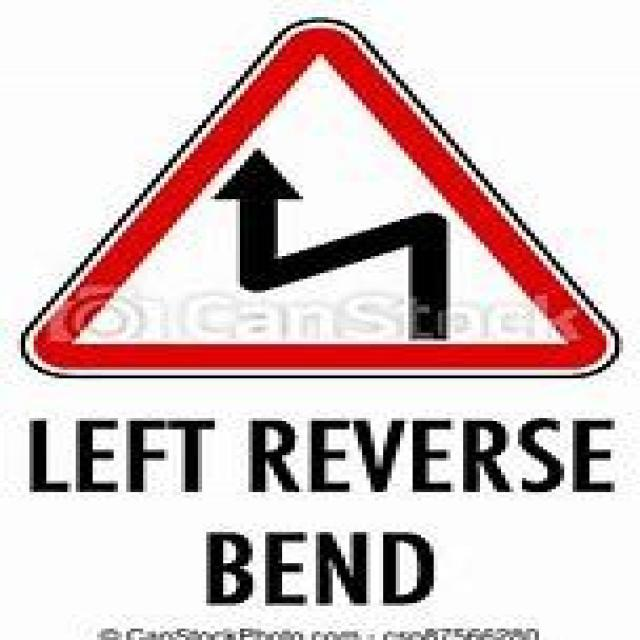left reverse bend: (30, 22, 620, 376)
